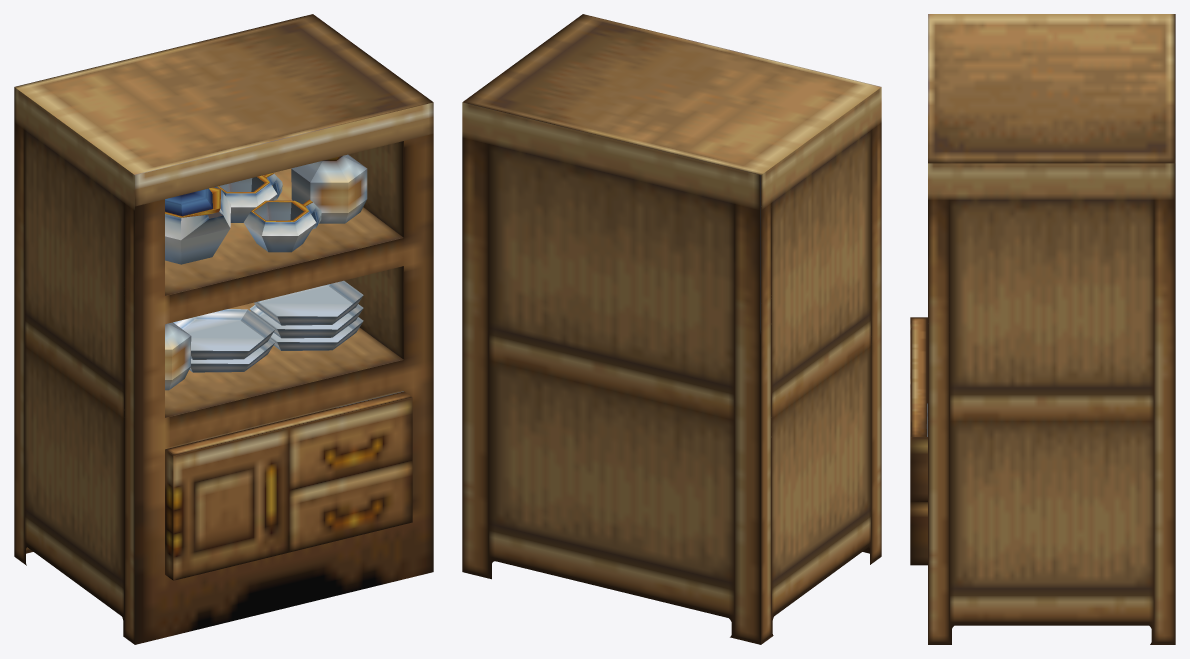
File: Inside_Poly_Shelf_03.obj
3 views of the same model, side by side, from view 1: azimuth 30°, elevation 25°; view 2: azimuth 150°, elevation 25°; view 3: azimuth 270°, elevation 25° (orthographic). The views are drawn at different scales.
Parts seen in each view (by area): view 1: Cube.002, Cube, Cube.001, Circle.001, Circle; view 2: Cube.002, Cube; view 3: Cube.002, Cube.
Boxes of the visible parts, <box> form: Cube.002: <box>14,243,433,644</box>; Cube: <box>14,14,433,331</box>; Cube.001: <box>165,173,363,372</box>; Circle.001: <box>291,154,367,223</box>; Circle: <box>165,322,191,390</box>; Cube.002: <box>462,243,881,644</box>; Cube: <box>462,14,881,331</box>; Cube.002: <box>910,317,1175,644</box>; Cube: <box>928,14,1175,323</box>.
Bounding box in the file's own units: 1 × 1.5 × 0.75.
Materials: 1 (1 with a texture image).
